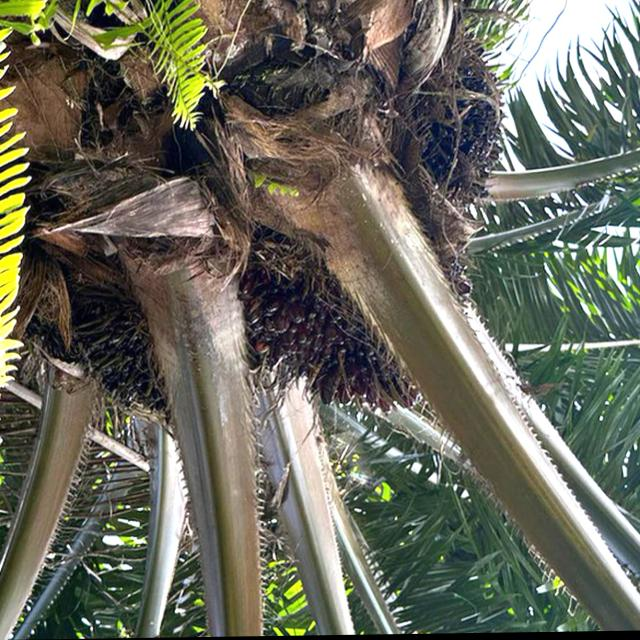ripe: (230, 227, 440, 435)
